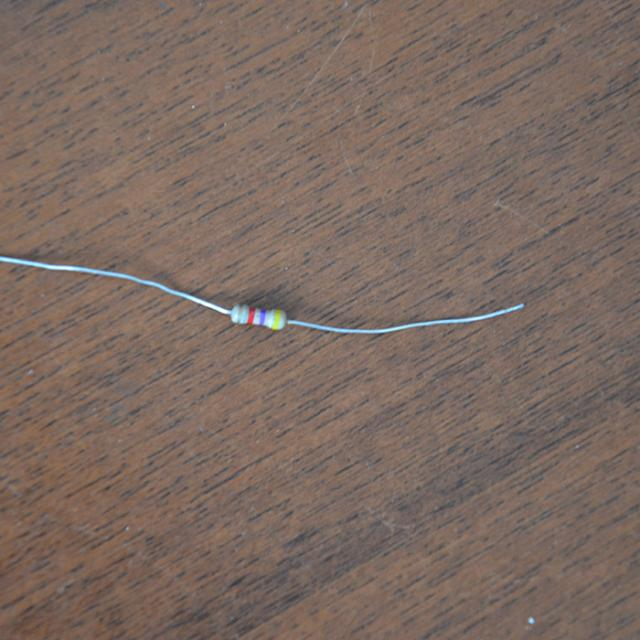gold: (237, 306, 243, 321)
red: (249, 306, 254, 322)
resistor: (218, 291, 304, 351)
violet: (260, 311, 267, 323)
yellow: (274, 310, 280, 329)
